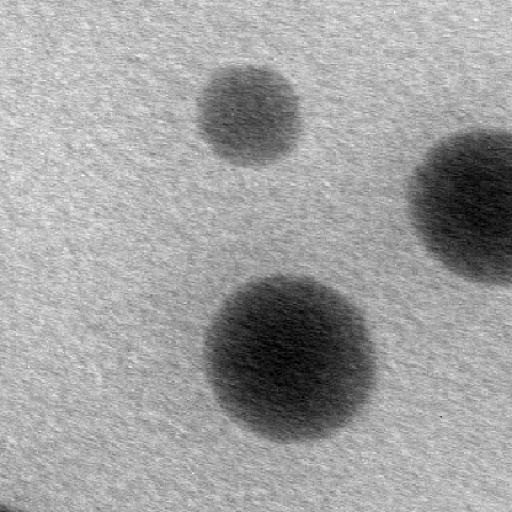Nanoparticles: (204, 268, 382, 444), (405, 123, 512, 289), (197, 62, 305, 168)
